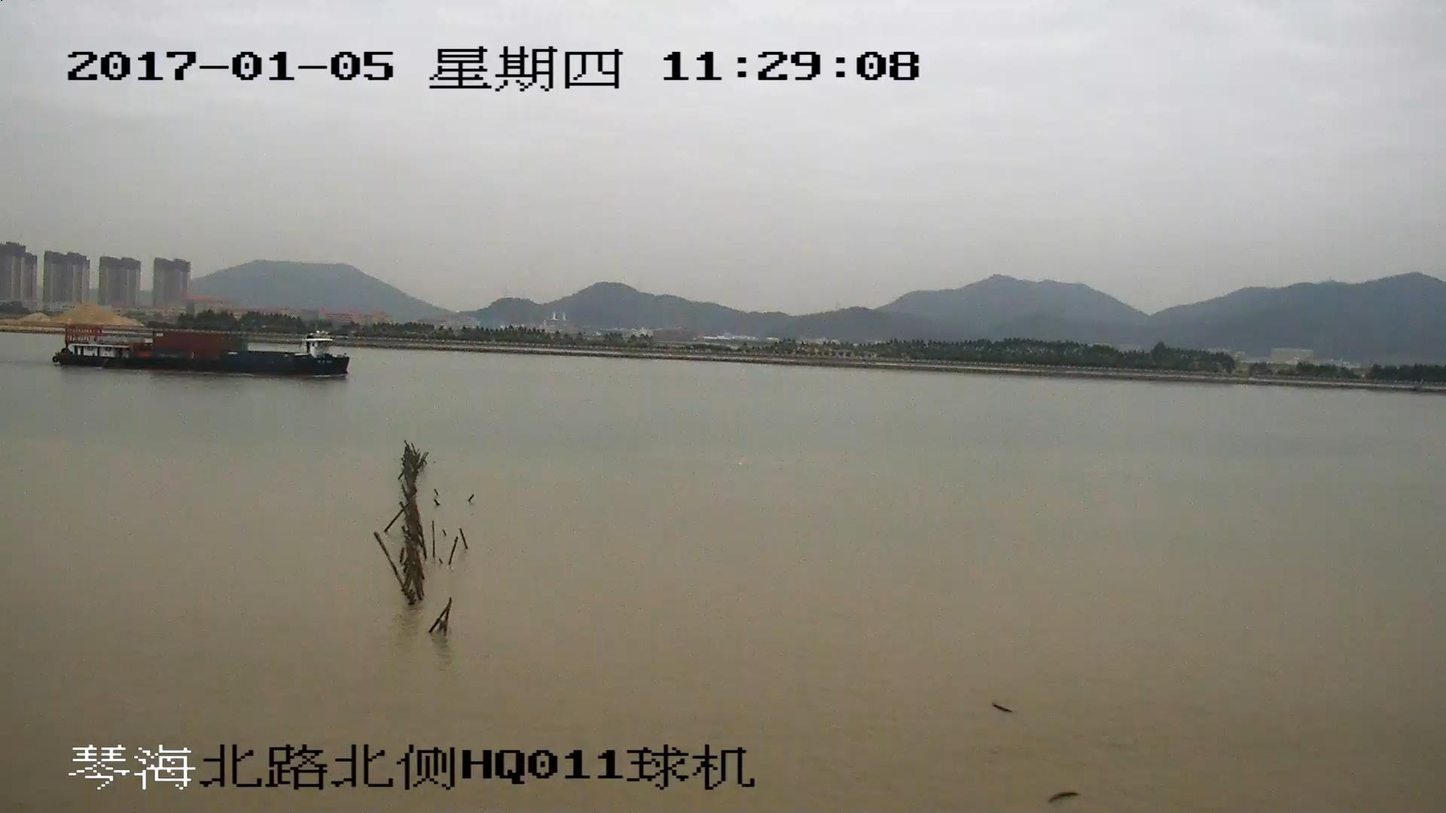container ship: (51, 324, 350, 376)
